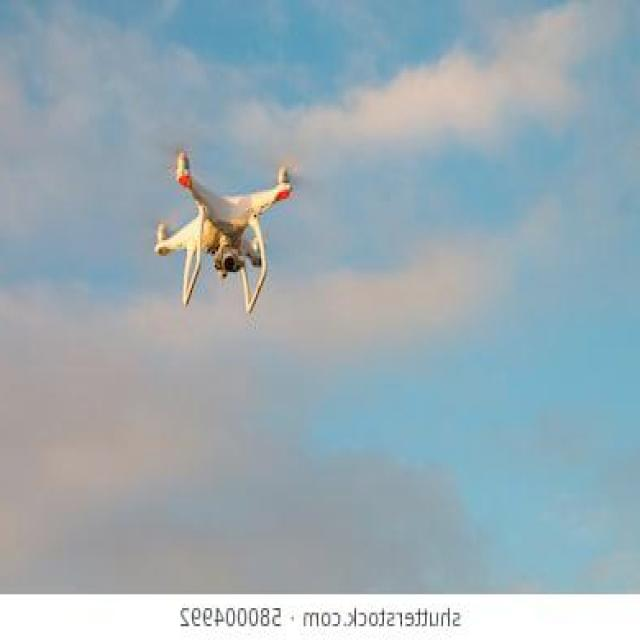drone: (152, 147, 296, 316)
